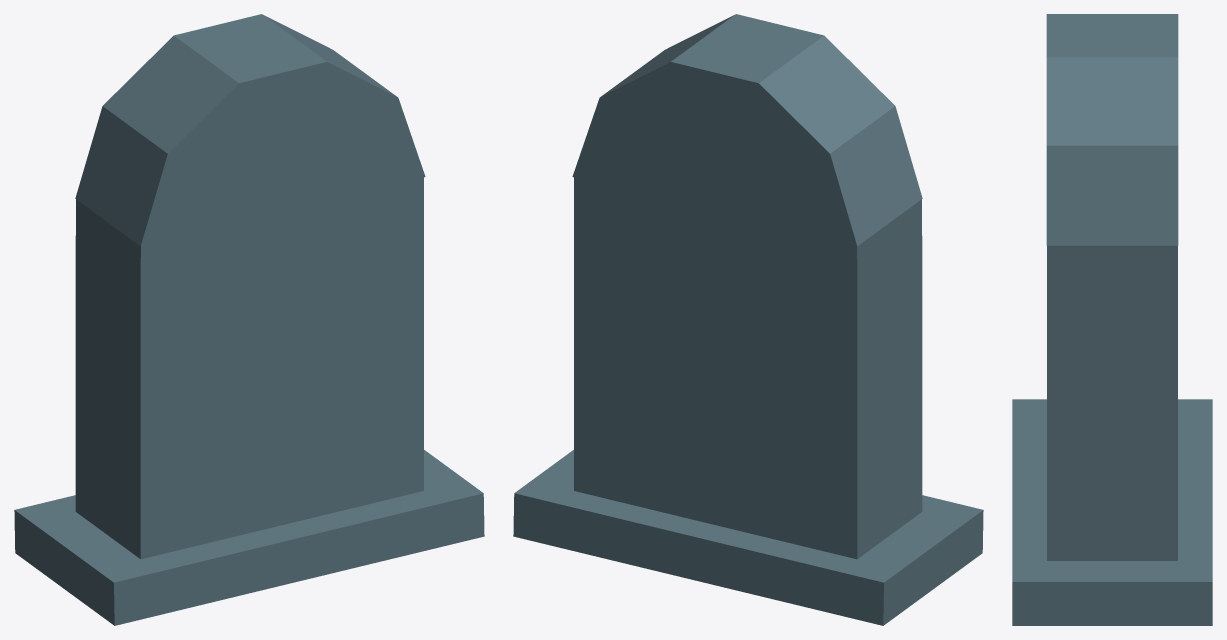
Rendered from tomb_2.fbx.
3 views of the same model, side by side, from view 1: azimuth 30°, elevation 25°; view 2: azimuth 150°, elevation 25°; view 3: azimuth 270°, elevation 25° (orthographic).
Parts seen in each view (by area): view 1: grave_V2; view 2: grave_V2; view 3: grave_V2.
Part boxes in pixels (x1,y1,x2,y2): grave_V2: [14, 14, 484, 625]; grave_V2: [513, 14, 983, 625]; grave_V2: [1012, 14, 1212, 625].
Bounding box in the file's own units: 2.6 × 3.33 × 1.21.
